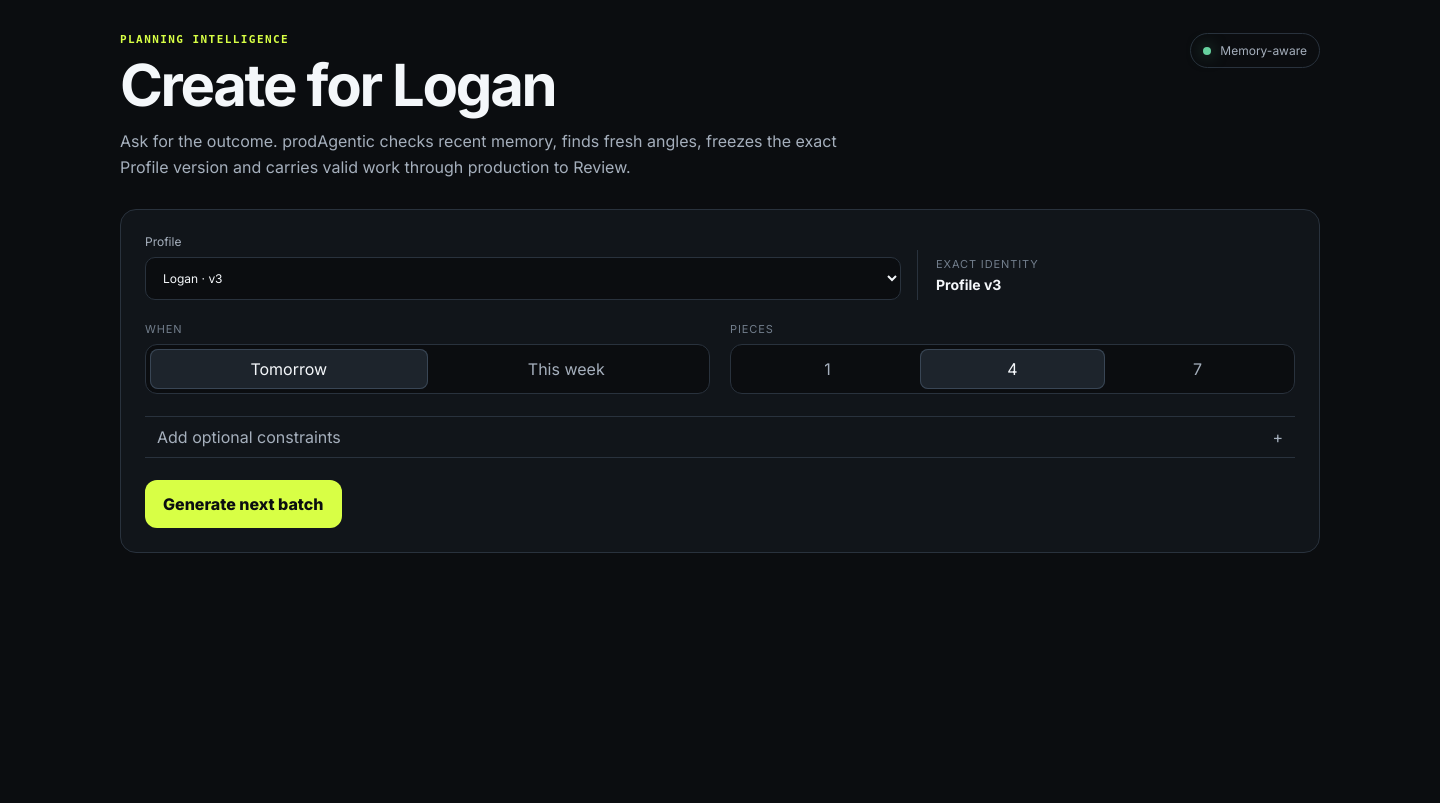
Test: MK1 R2 Create › starts with outcome-level controls and plans four pieces by default
This screenshot has width=1440, height=803.
Expected: the heading "Create for Logan" is shown, top-left (120, 50), bottom-right (555, 120)
Click the button "Generate next batch" at (243, 504), box top-left (145, 480), bottom-right (342, 528)
(page scrolled)
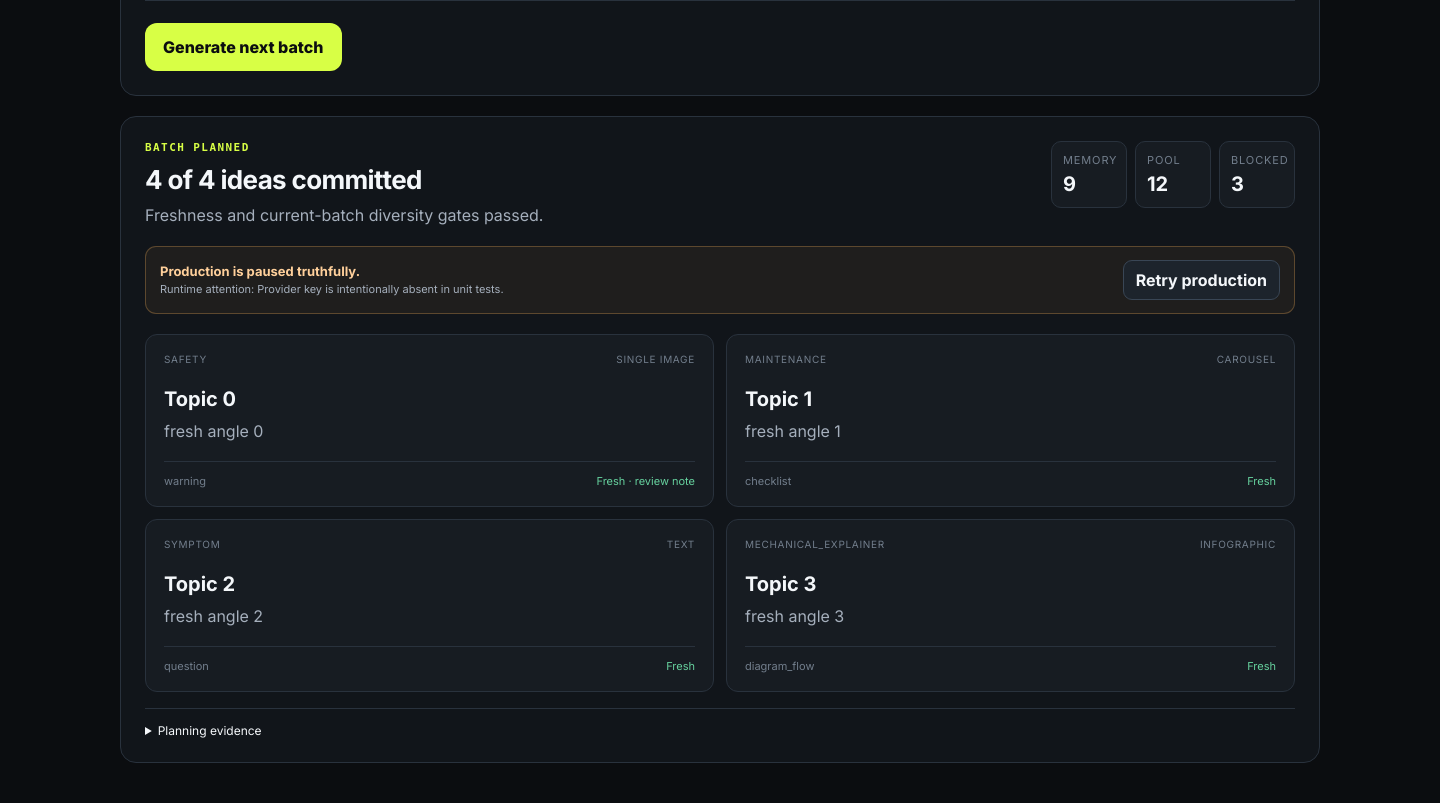
Expected: the heading "4 of 4 ideas committed" is shown, top-left (145, 164), bottom-right (422, 195)
Expected: the text "Fresh · review note" is shown, top-left (596, 474), bottom-right (695, 488)
Expected: the text "Production is paused truthfully." is shown, top-left (160, 263), bottom-right (360, 279)
Click the heading "Planning evidence" at (210, 731), box top-left (158, 723), bottom-right (262, 738)
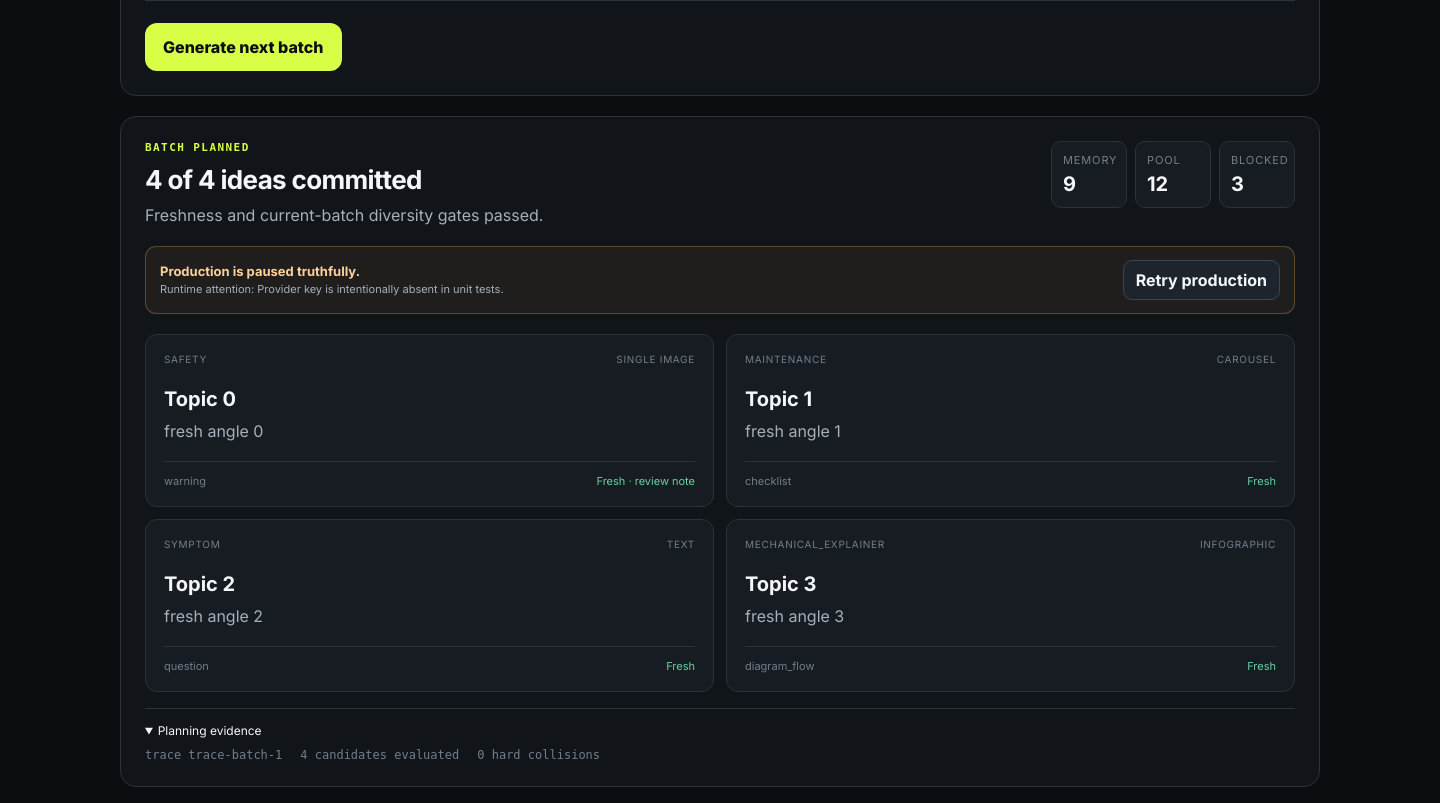
Expected: the text "4 candidates evaluated" is shown, top-left (300, 748), bottom-right (459, 762)
